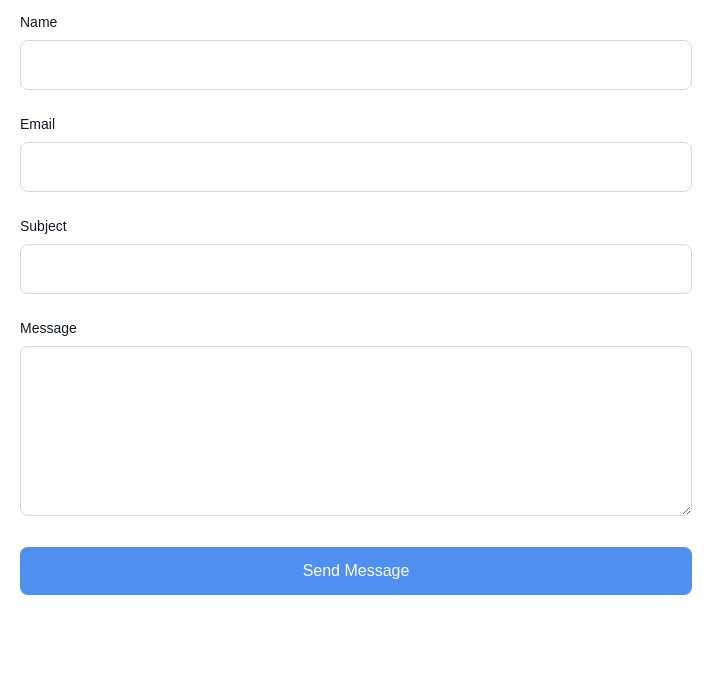
Test case: ContactForm Unit Tests › Form Submission › should not submit form with validation errors
# Only fill in name, leave other fields empty
Type "John Doe" into the field labelled "Name" at (356, 65), box x1=20 y1=40 x2=692 y2=90
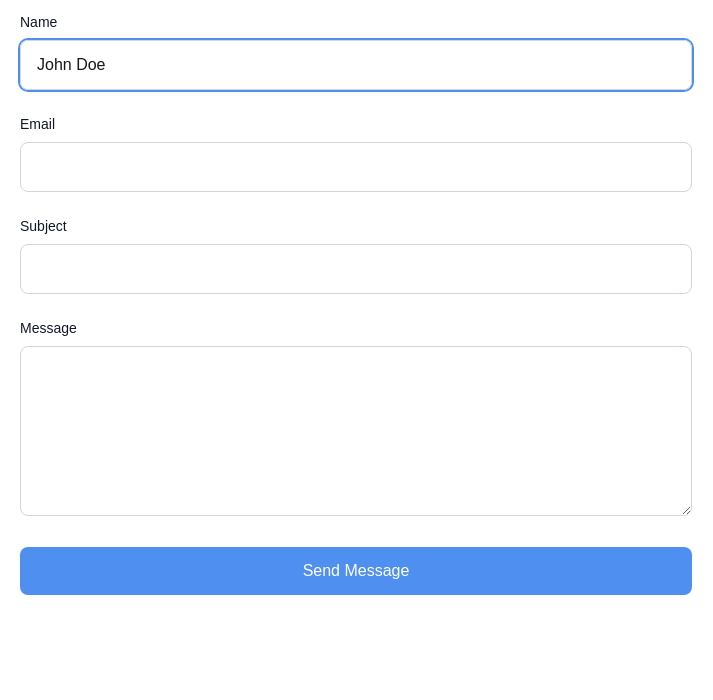
Click the button "Send Message" at (356, 571), box x1=20 y1=547 x2=692 y2=595
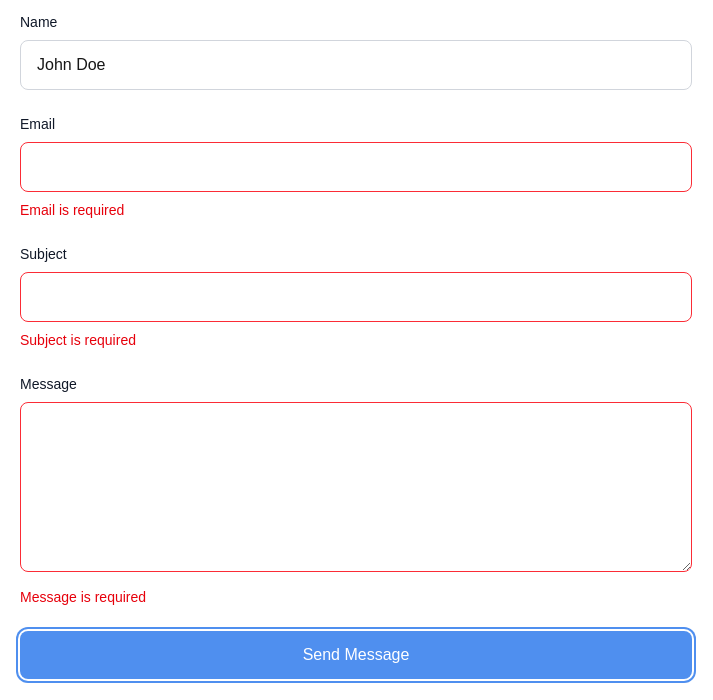
Now the text "Email is required" is shown, box x1=20 y1=202 x2=124 y2=218
